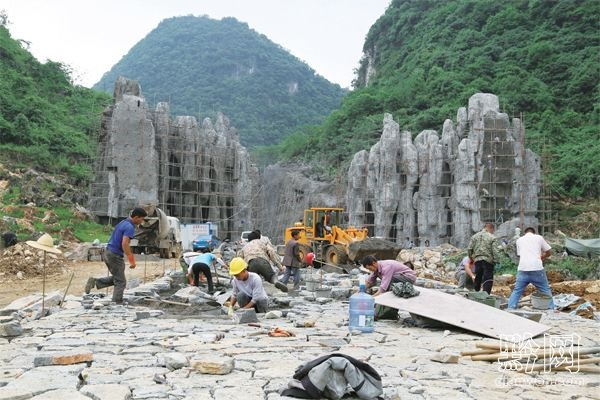none: (128, 207, 145, 227), (361, 255, 377, 274), (481, 220, 495, 236), (523, 222, 535, 238), (290, 227, 301, 241)
yellow: (227, 258, 249, 282)
